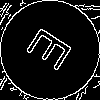E: (25, 25, 82, 78)
